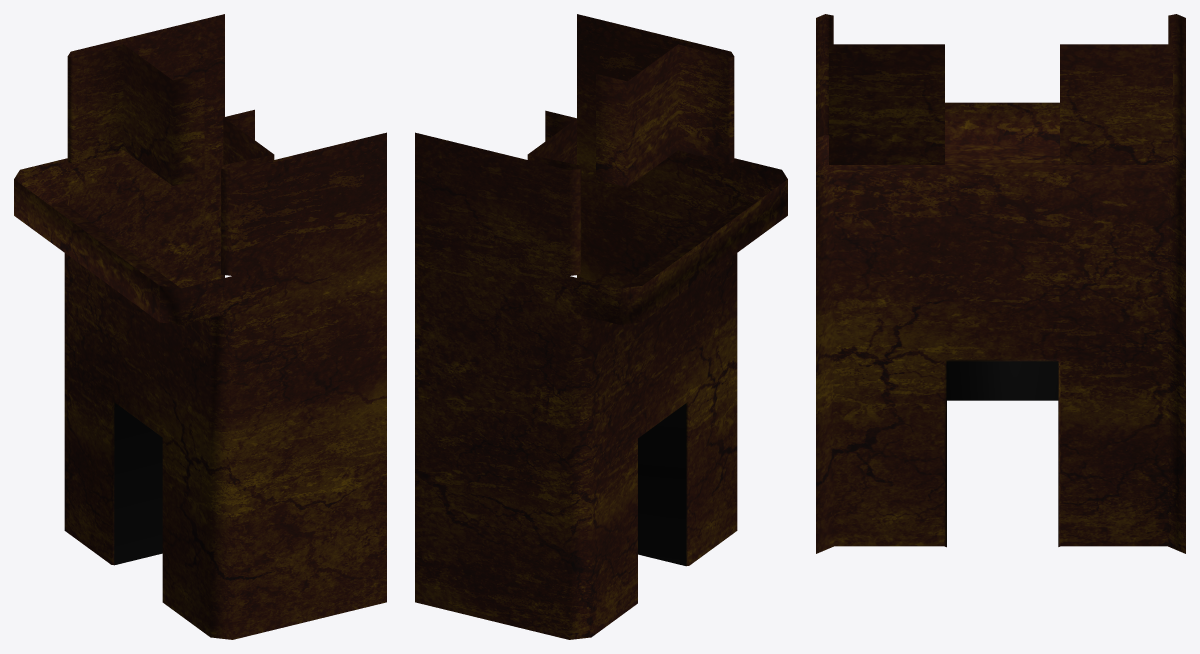
File: sideBuildingOne.fbx
The picture shows the model from 3 angles, left to right: view 1: azimuth 30°, elevation 25°; view 2: azimuth 150°, elevation 25°; view 3: azimuth 270°, elevation 25°; orthographic projection. The views are drawn at different scales.
Parts seen in each view (by area): view 1: pCube1; view 2: pCube1; view 3: pCube1.
Part boxes in pixels (x1,y1,x2,y2): pCube1: [14, 14, 386, 639]; pCube1: [415, 14, 787, 639]; pCube1: [816, 14, 1185, 553].
Size of the model in its own units: 3.9 by 8 by 5.
